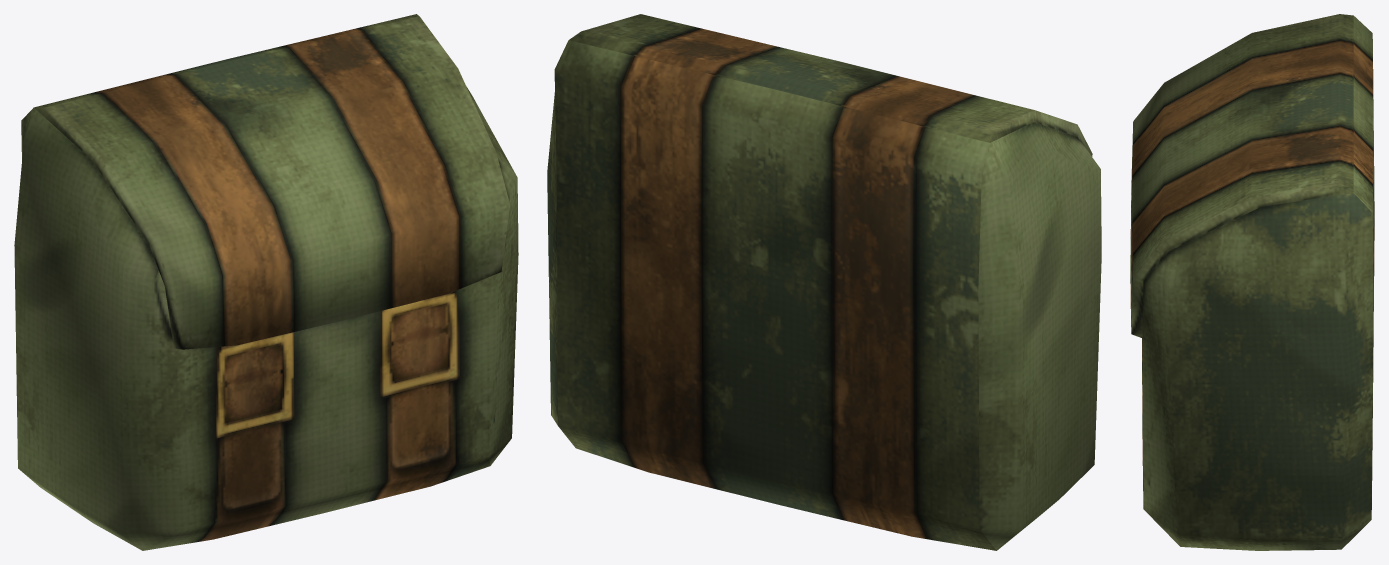
The model's file is MediumTank_Gear_Kitbag_01.FBX.
3 views of the same model, side by side, from view 1: azimuth 30°, elevation 25°; view 2: azimuth 150°, elevation 25°; view 3: azimuth 270°, elevation 25° (orthographic). The views are drawn at different scales.
Parts seen in each view (by area): view 1: MediumTank_Gear_KitBag_01; view 2: MediumTank_Gear_KitBag_01; view 3: MediumTank_Gear_KitBag_01.
Boxes of the visible parts, bbox=[...] form: MediumTank_Gear_KitBag_01: bbox=[14, 14, 518, 550]; MediumTank_Gear_KitBag_01: bbox=[547, 14, 1101, 550]; MediumTank_Gear_KitBag_01: bbox=[1130, 14, 1374, 550].
Size of the model in its own units: 0.2857 by 0.2461 by 0.1482.
